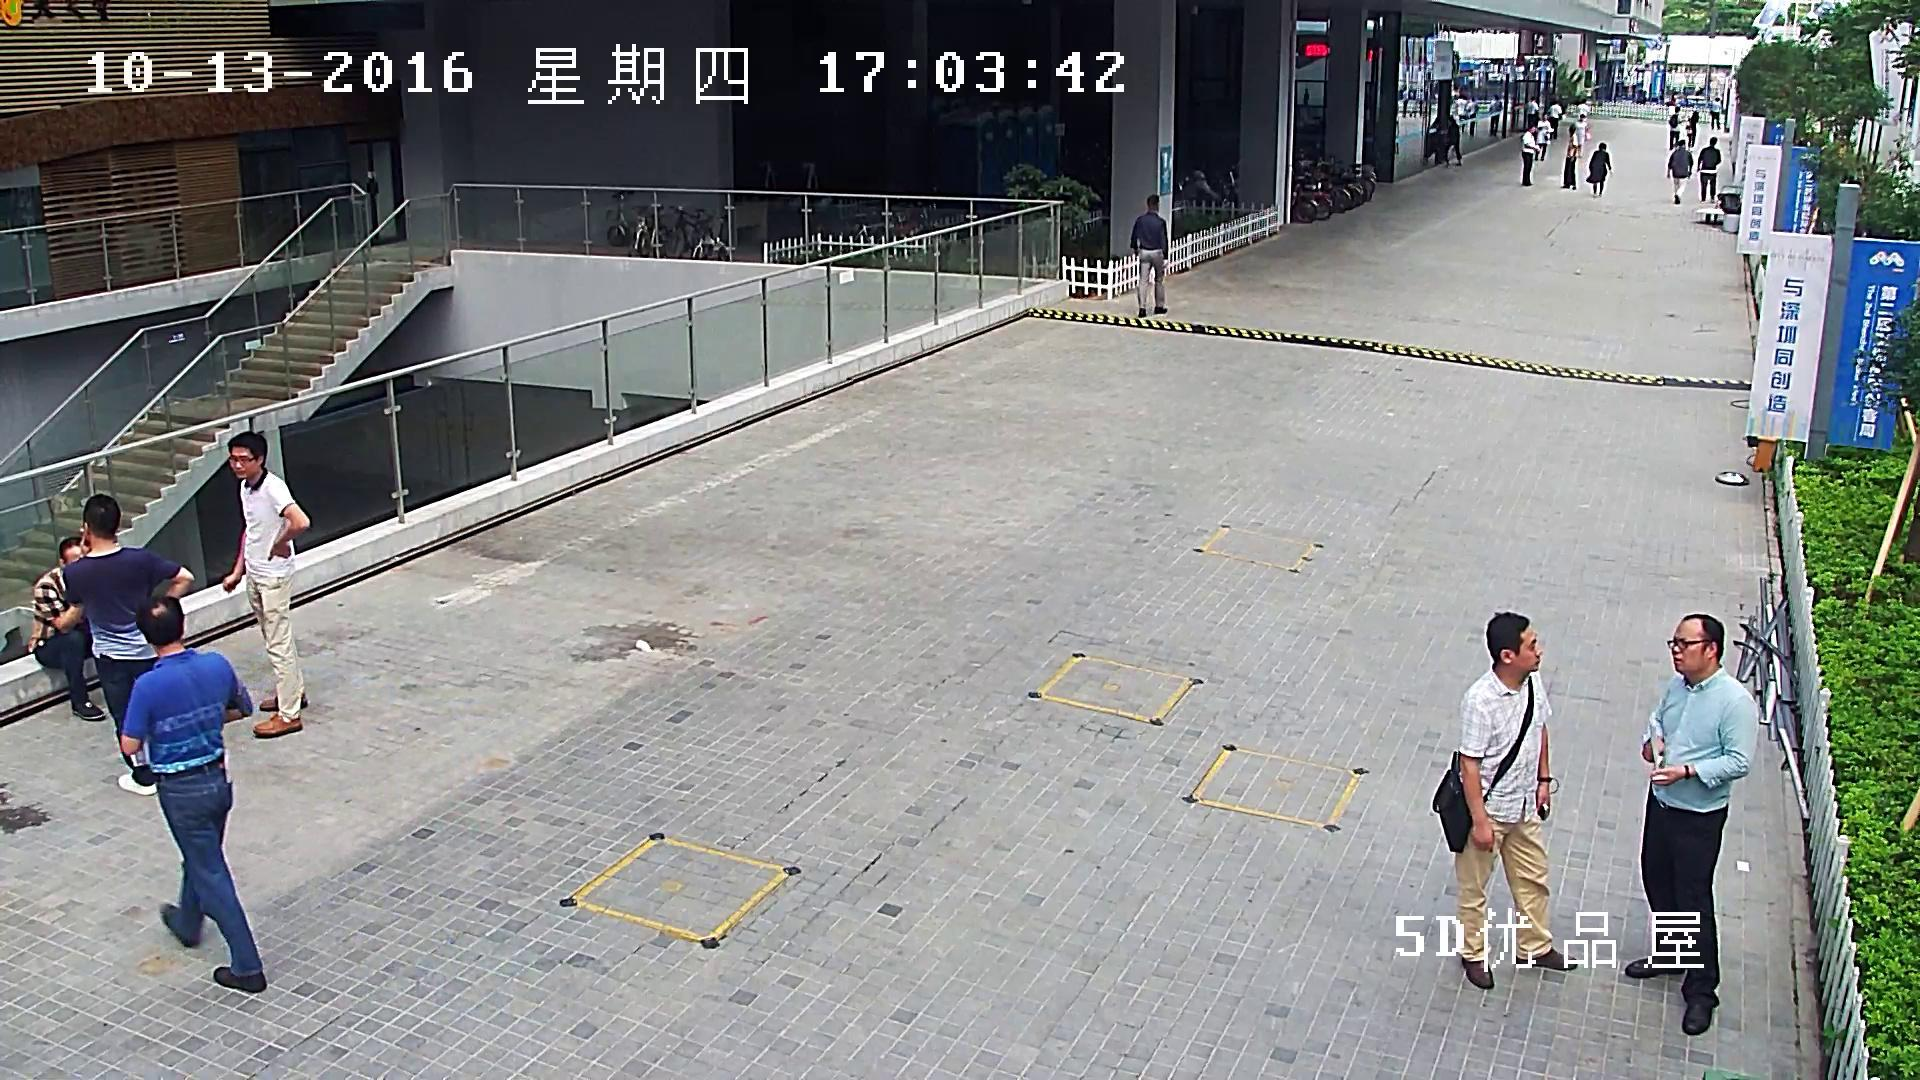person: (1624, 615, 1760, 1036), (122, 597, 267, 993), (1431, 611, 1578, 988), (64, 494, 193, 794), (223, 429, 310, 737), (31, 535, 109, 721), (1130, 194, 1168, 316), (1667, 139, 1693, 203), (1697, 137, 1721, 202), (1586, 143, 1611, 194), (1520, 124, 1539, 186), (1560, 124, 1577, 189), (1444, 114, 1462, 166), (1534, 112, 1553, 160), (1574, 113, 1590, 158), (1669, 106, 1682, 149), (1547, 100, 1561, 139), (1523, 95, 1539, 129), (1488, 96, 1501, 136), (1467, 96, 1478, 136), (1686, 110, 1698, 146), (1457, 95, 1467, 132), (1709, 97, 1720, 128), (1409, 82, 1416, 117), (1578, 98, 1589, 119), (1402, 85, 1409, 117)
